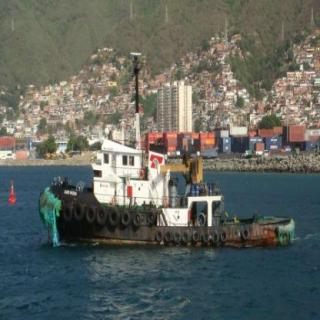Tug Boat: (36, 140, 308, 246)
